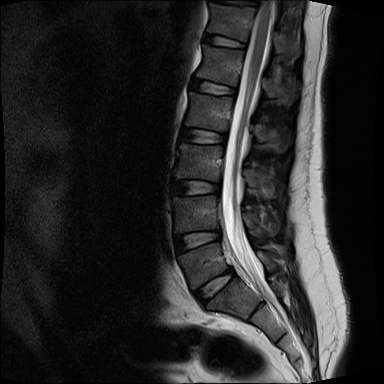Lumbar Disc Bulge (LDB): (188, 261, 239, 310), (165, 224, 227, 261)
Normal IVD: (181, 70, 240, 102), (163, 174, 226, 201), (171, 121, 230, 147), (196, 30, 250, 53)
